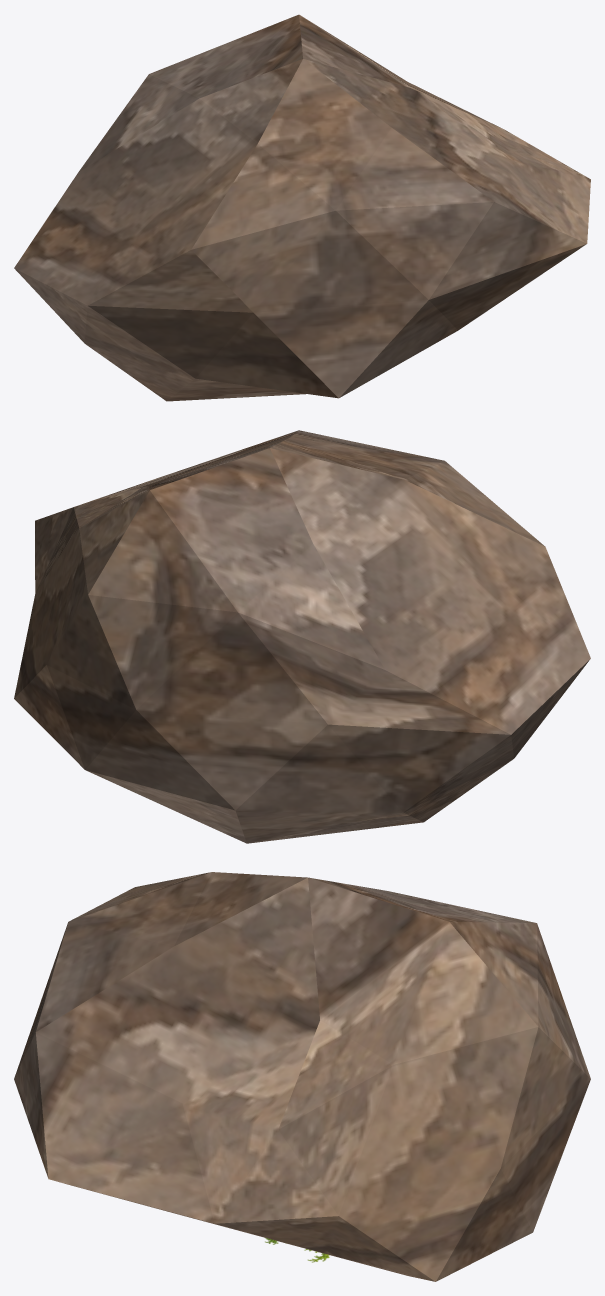
Rendered from rock-l-sharp.glb.
The picture shows the model from 3 angles, top to bottom: view 1: azimuth 30°, elevation 25°; view 2: azimuth 150°, elevation 25°; view 3: azimuth 270°, elevation 25°; orthographic projection. The views are drawn at different scales.
Parts seen in each view (by area): view 1: rock-l-sharp; view 2: rock-l-sharp; view 3: rock-l-sharp.
Boxes of the visible parts, box(x1,y1,x2,y2) form: rock-l-sharp: box(14, 14, 590, 401); rock-l-sharp: box(14, 430, 590, 843); rock-l-sharp: box(14, 872, 590, 1281).
Size of the model in its own units: 4.26 by 2.49 by 3.37.
Materials: 2 (2 with a texture image).
